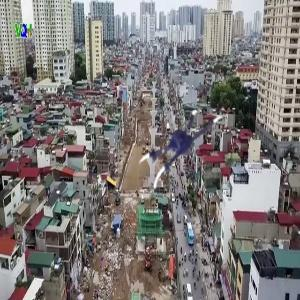drone: (137, 104, 236, 203)
